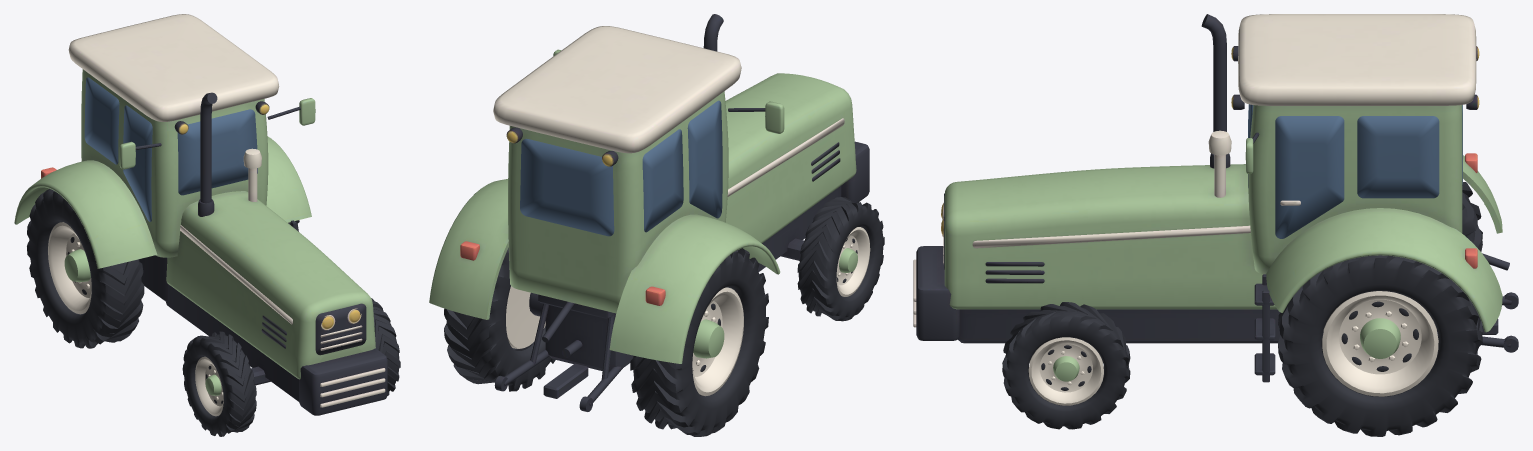
Rendered from tractor.glb.
3 views of the same model, side by side, from view 1: azimuth 30°, elevation 25°; view 2: azimuth 150°, elevation 25°; view 3: azimuth 270°, elevation 25° (orthographic). The views are drawn at different scales.
Parts seen in each view (by area): view 1: tractor_body, tractor_wheel_rr, tractor_windows, tractor_wheel_fr, tractor_wheel_fl; view 2: tractor_body, tractor_wheel_rr, tractor_windows, tractor_wheel_fr, tractor_wheel_rl; view 3: tractor_body, tractor_wheel_rl, tractor_windows, tractor_wheel_fl, tractor_wheel_rr.
Part boxes in pixels (x1,y1,x2,y2): tractor_body: (14,14,387,415); tractor_wheel_rr: (27,189,144,348); tractor_windows: (84,77,257,221); tractor_wheel_fr: (182,331,256,436); tractor_wheel_fl: (371,298,400,395); tractor_body: (429,14,869,411); tractor_wheel_rr: (630,248,768,436); tractor_windows: (520,100,722,236); tractor_wheel_fr: (797,197,884,321); tractor_wheel_rl: (444,248,555,391); tractor_body: (913,14,1518,382); tractor_wheel_rl: (1278,255,1482,436); tractor_windows: (1248,104,1462,238); tractor_wheel_fl: (1002,302,1130,429); tractor_wheel_rr: (1462,182,1482,251).
Size of the model in its own units: 2.38 by 3.03 by 4.72.
14 materials, 1 textured.
